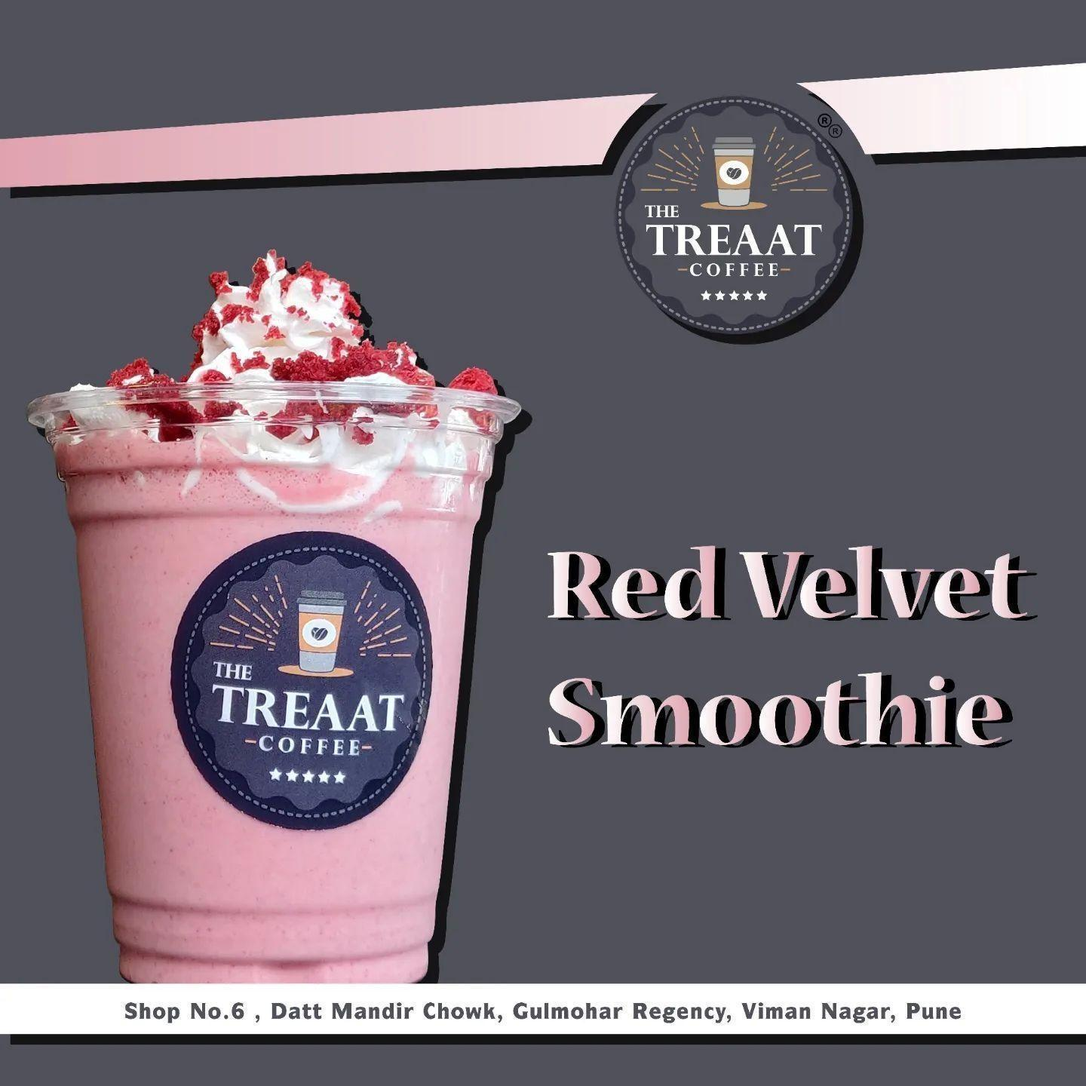cup-disposable: (16, 360, 526, 978)
